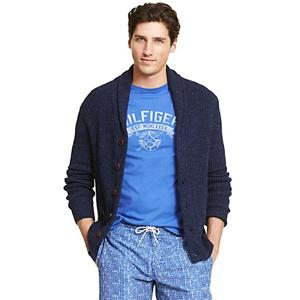C_cardigan sweater: (69, 67, 240, 263)
